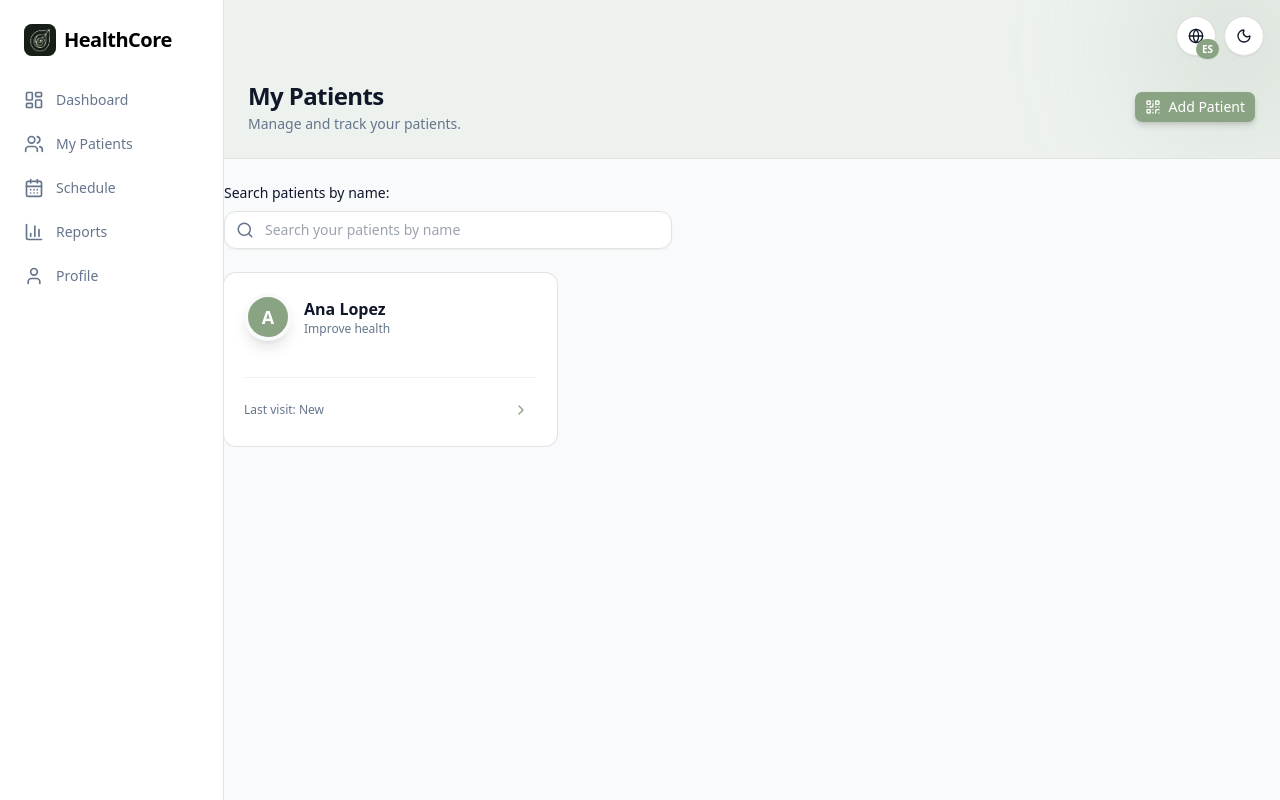
Test case: NutritionistPatientsPage › shows a search-specific empty state when there are linked patients but no matches
The image size is (1280, 800).
Expected: the heading "Ana Lopez" is shown, [304,297,390,321]
Type "zzz" into the field labelled "Search patients by name:" at (448, 230), box [224,211,672,249]
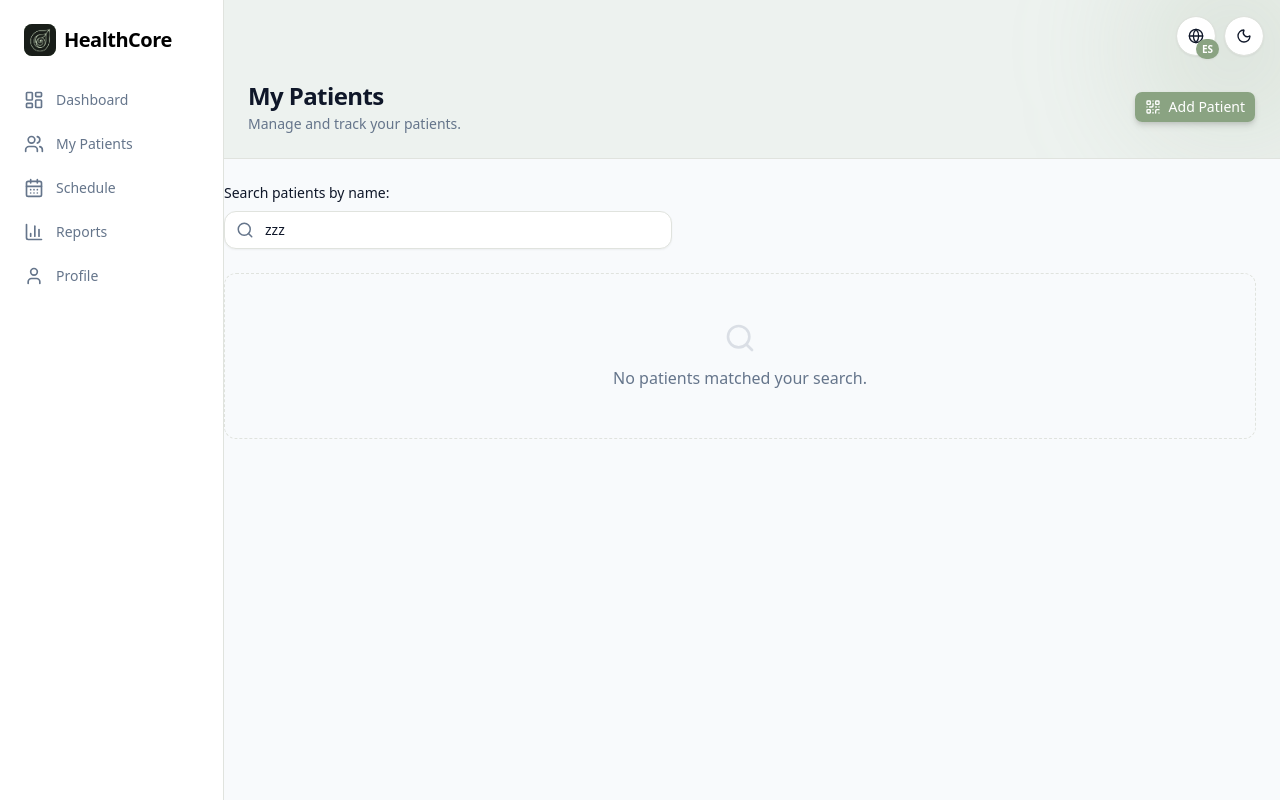
Now the text "No patients matched your search." is shown, box [613,367,867,389]
